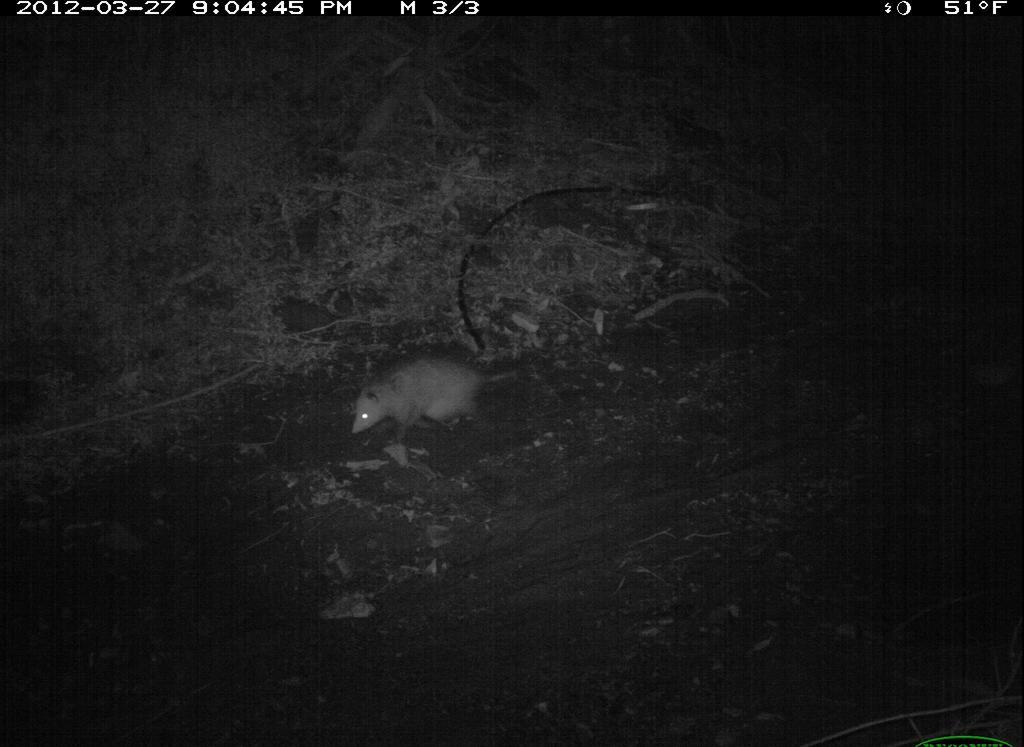opossum: (346, 342, 543, 447)
